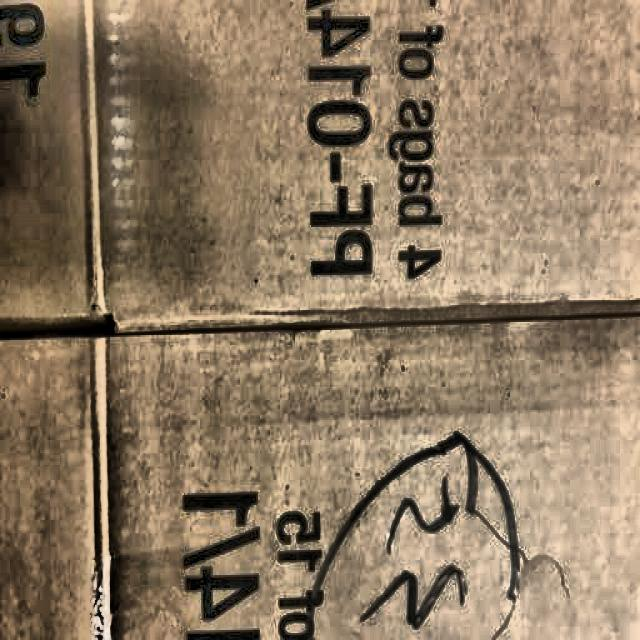cardboard: (1, 0, 640, 638)
